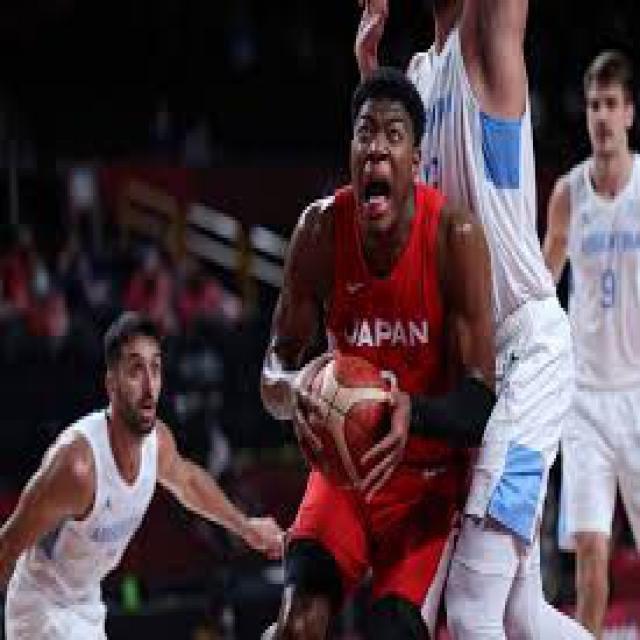basketball: (301, 356, 394, 494)
